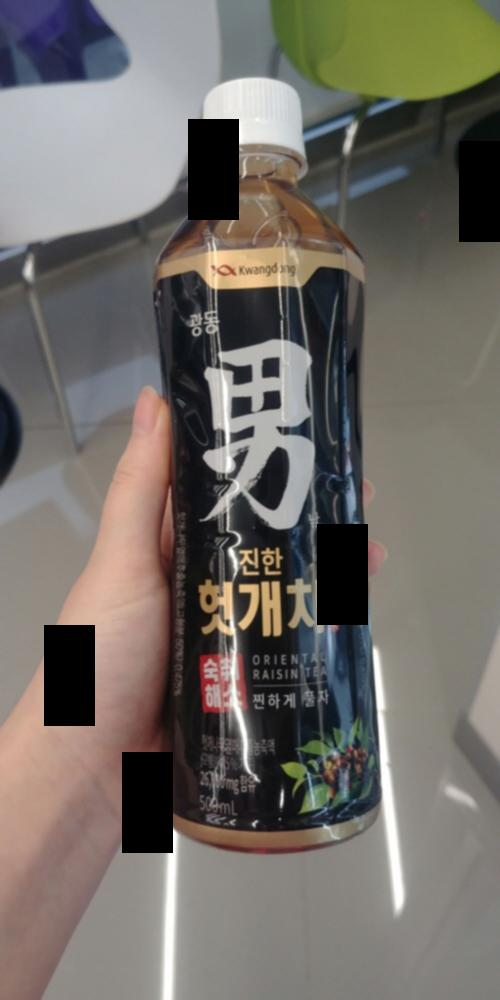heotgaecha: (131, 45, 396, 881)
